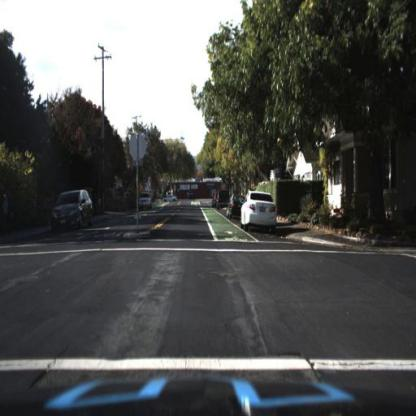car: (54, 189, 93, 236), (240, 190, 276, 235), (225, 195, 246, 223), (227, 193, 242, 220), (137, 192, 153, 211), (216, 190, 230, 211), (138, 192, 153, 211)
pedestrian: (1, 192, 14, 236)
